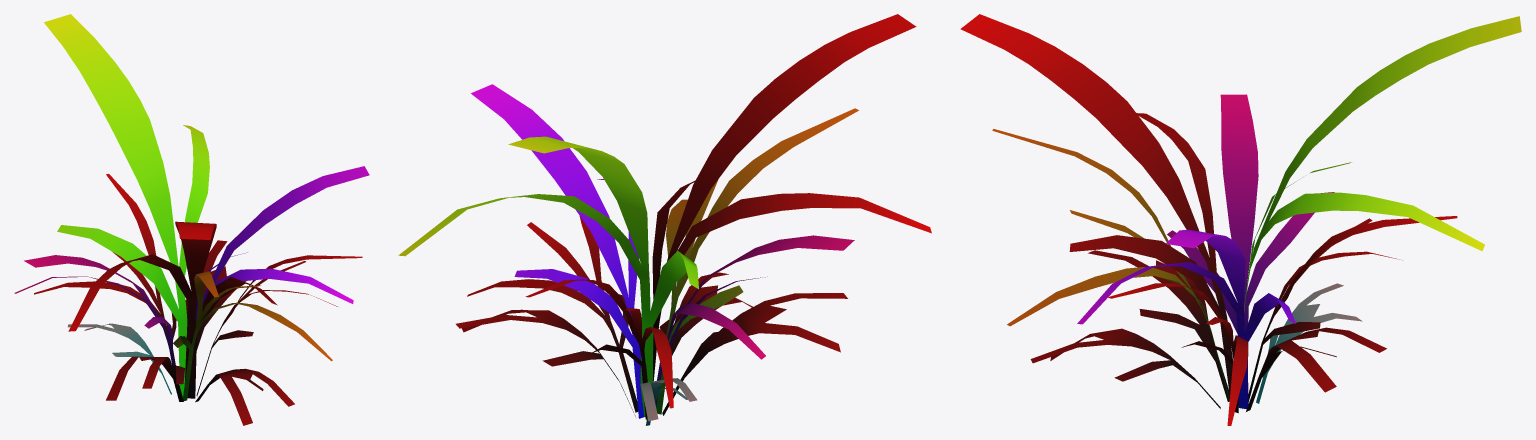
Rendered from Tall_grass_var2.fbx.
3 renders of one model, left to right at view 1: azimuth 30°, elevation 25°; view 2: azimuth 150°, elevation 25°; view 3: azimuth 270°, elevation 25°, orthographic. The views are drawn at different scales.
Parts seen in each view (by area): view 1: Tall_grass_var2_LOD0; view 2: Tall_grass_var2_LOD0; view 3: Tall_grass_var2_LOD0.
Part boxes in pixels (<box>): Tall_grass_var2_LOD0: <box>14,14,369,425</box>; Tall_grass_var2_LOD0: <box>398,14,931,425</box>; Tall_grass_var2_LOD0: <box>960,14,1521,425</box>.
Size of what is drawn, in the model's own units: 3.52 by 3.05 by 4.13.
